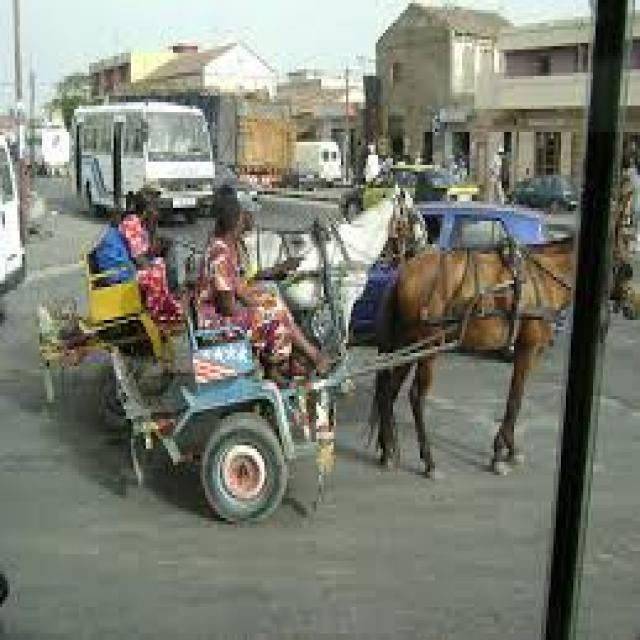bus tata: (75, 103, 214, 210)
charette: (43, 183, 576, 522)
